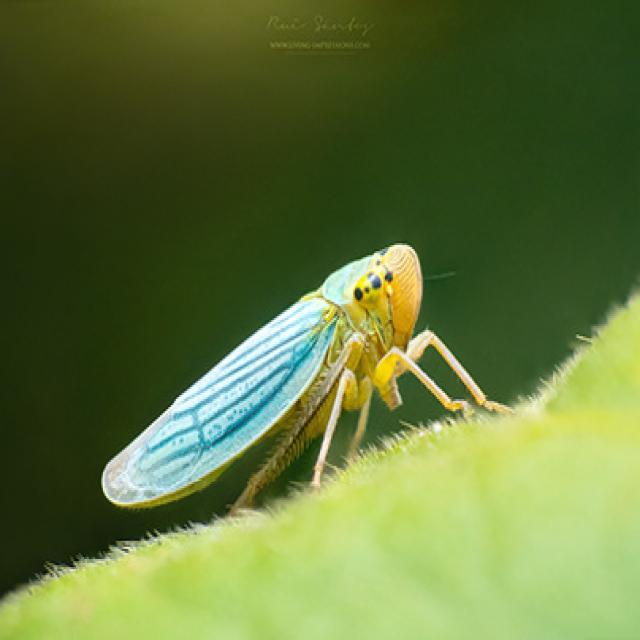Yechan: (89, 231, 483, 537)
